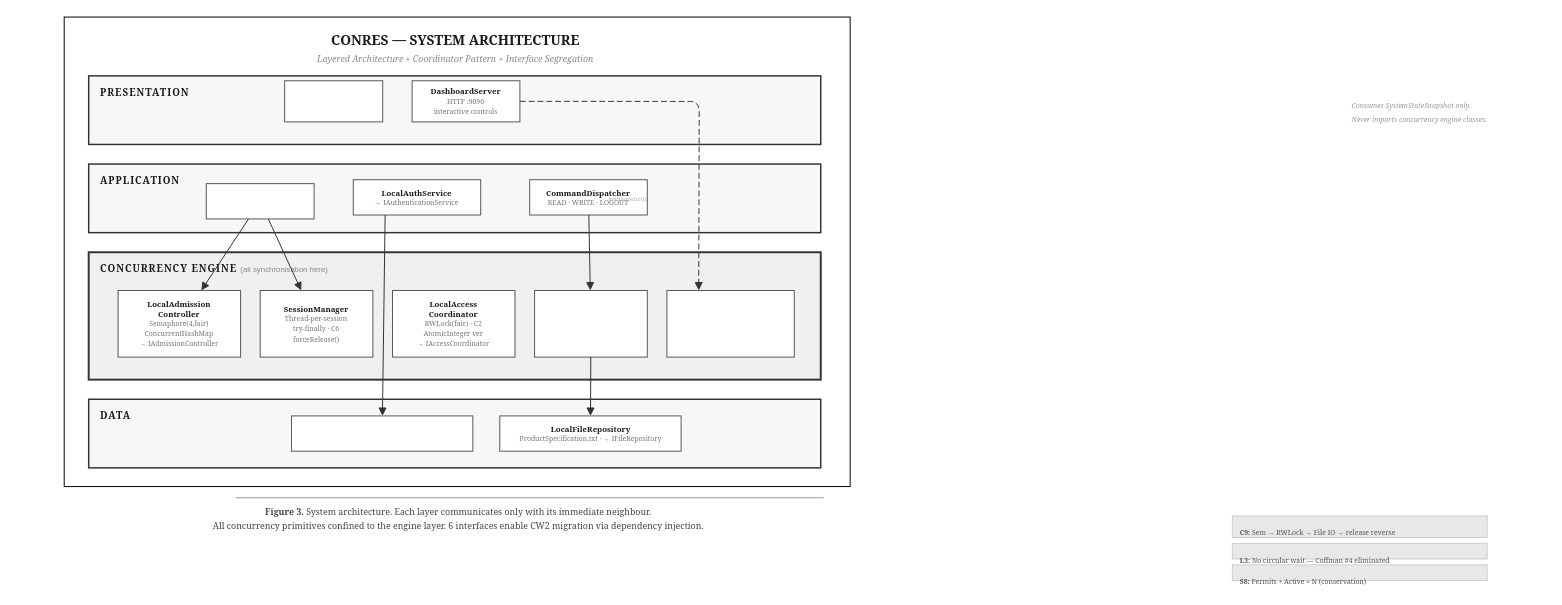
Image size: 1562x605. Some labels were removed from this diagram. The centre of each missing label's shape, as x and y in pixels:
"FileBackedCredentialStore users.txt · immutable · → ICredentialStore" goes at (x=382, y=433).
"LocalSnapshot Provider Approach B · S10 → IStateSnapshotProvider" goes at (x=730, y=323).
"ResourceAccess Manager try-finally facade C6 · C7" goes at (x=590, y=323).
"SessionController login pipeline · C8" goes at (x=259, y=201).
"SystemDisplay ANSI console poll 500ms" goes at (x=333, y=101).
